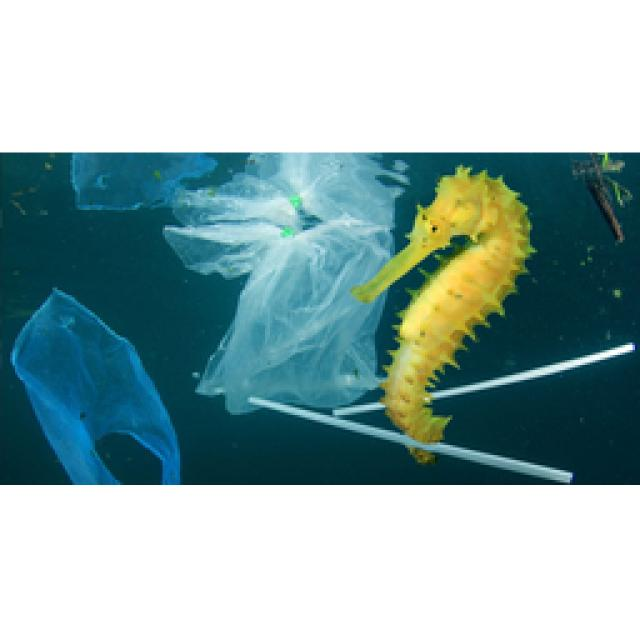plastic: (158, 152, 418, 442), (430, 342, 630, 398), (70, 152, 138, 208)
